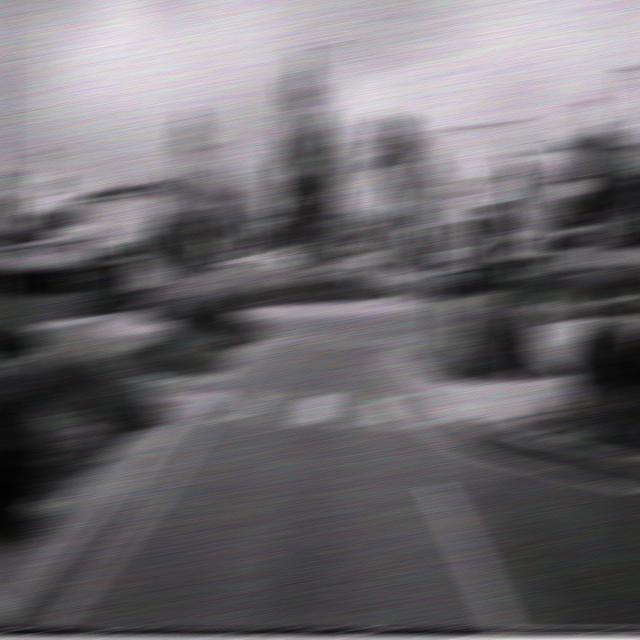pedestrianCrossing: (486, 133, 546, 230)
yield: (414, 188, 450, 234), (198, 140, 234, 180)
